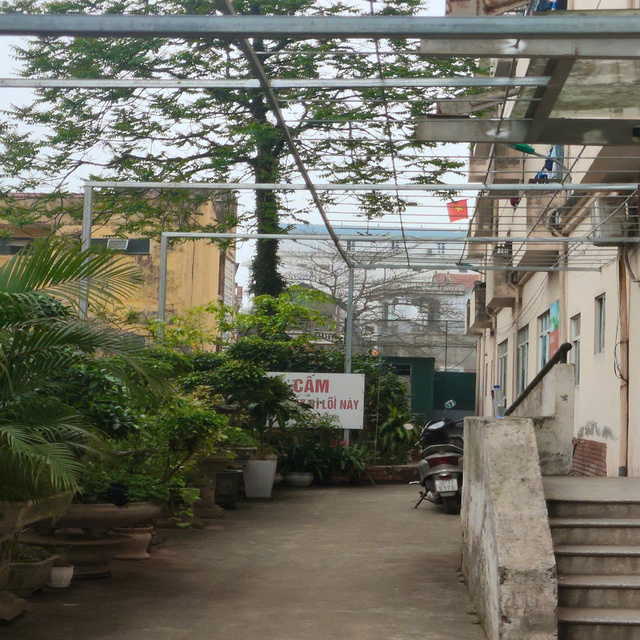laco: (441, 197, 477, 227)
